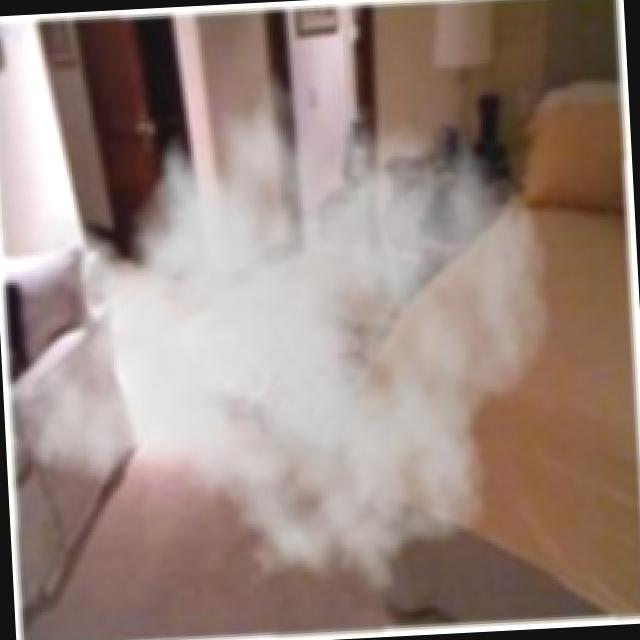smoke: (118, 149, 455, 495)
